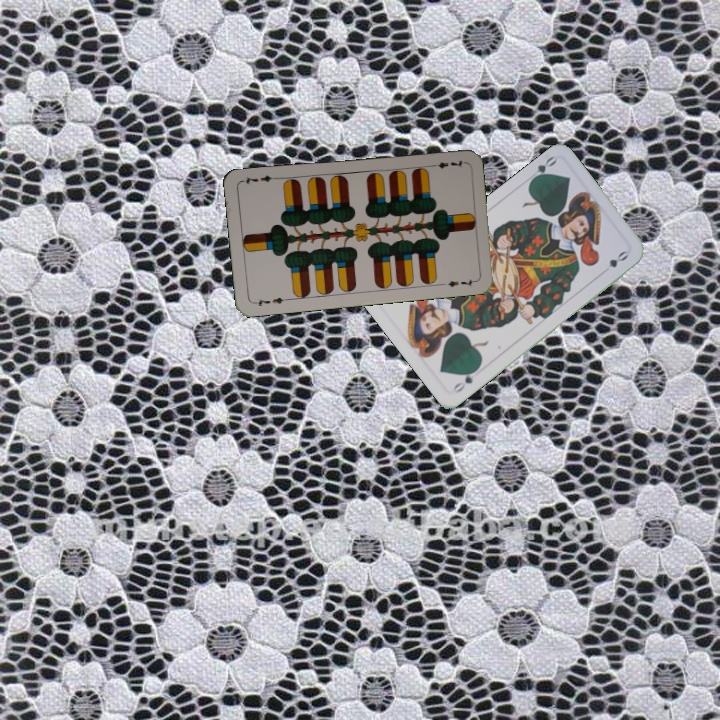E7: (250, 293, 290, 309), (426, 156, 466, 171)
GO: (526, 152, 559, 185), (449, 364, 481, 396)
